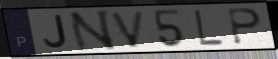5: (150, 8, 187, 49)
J: (41, 14, 70, 50)
L: (192, 8, 226, 47)
N: (66, 8, 118, 53)
P: (226, 7, 264, 47)
V: (109, 9, 148, 49)
